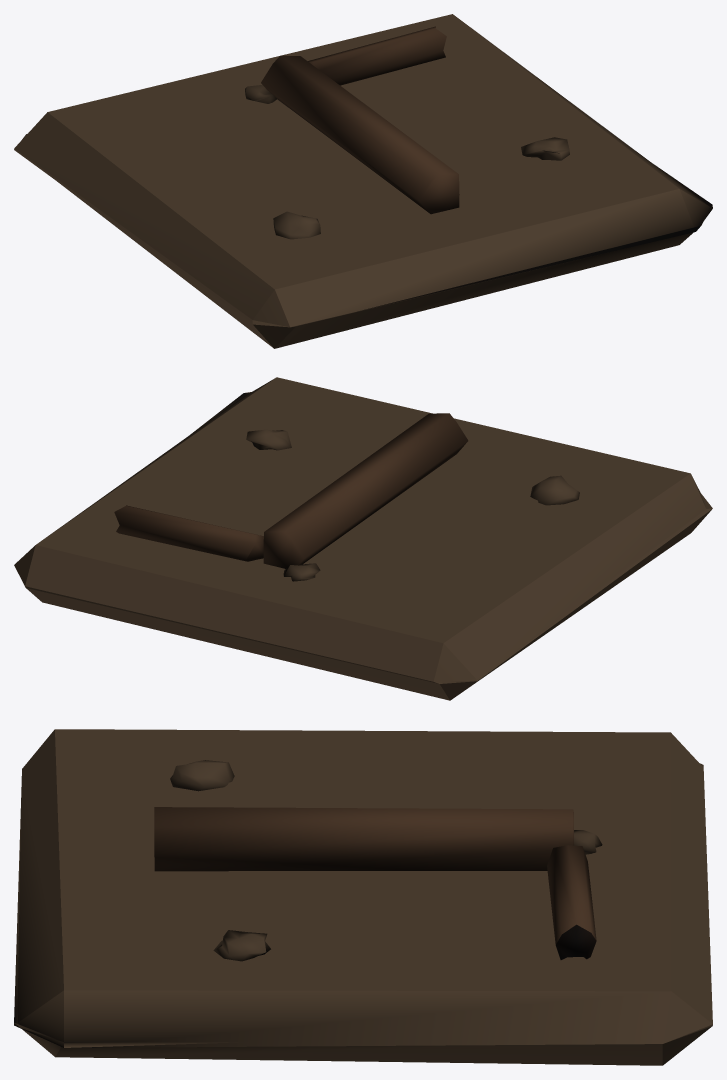
File: floor_region1_v1.glb
3 views of the same model, one above another, from view 1: azimuth 30°, elevation 25°; view 2: azimuth 150°, elevation 25°; view 3: azimuth 270°, elevation 25° (orthographic). The views are drawn at different scales.
Parts seen in each view (by area): view 1: floor_region1_v1; view 2: floor_region1_v1; view 3: floor_region1_v1.
Part boxes in pixels (x1,y1,x2,y2): floor_region1_v1: [14, 14, 712, 348]; floor_region1_v1: [14, 377, 712, 700]; floor_region1_v1: [14, 729, 712, 1065].
Size of the model in its own units: 1.02 by 0.2037 by 1.01.
